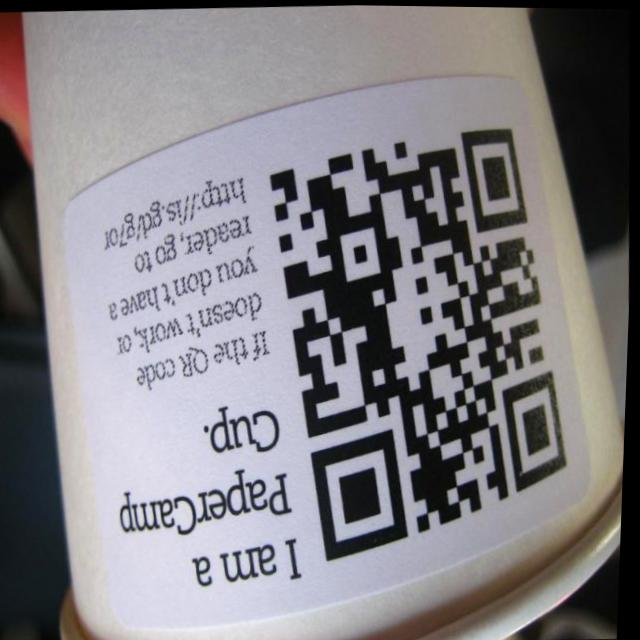qrcode: (257, 121, 583, 565)
